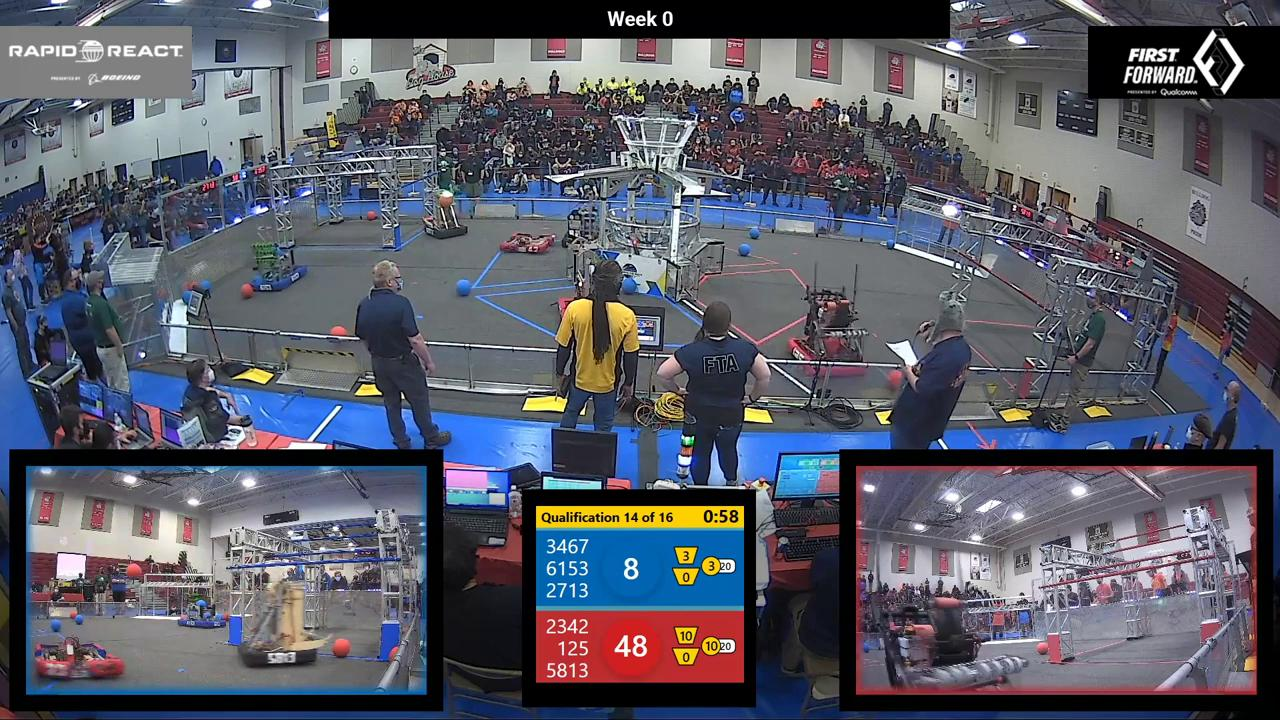robot: (872, 588, 1025, 690), (234, 576, 325, 673), (789, 301, 866, 377), (34, 637, 127, 680), (422, 184, 470, 241), (257, 245, 305, 292), (498, 229, 547, 258), (185, 610, 223, 629)
